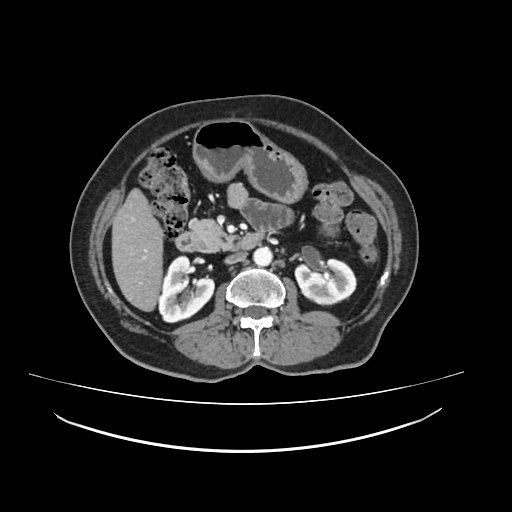aorta: (251, 245, 273, 267)
